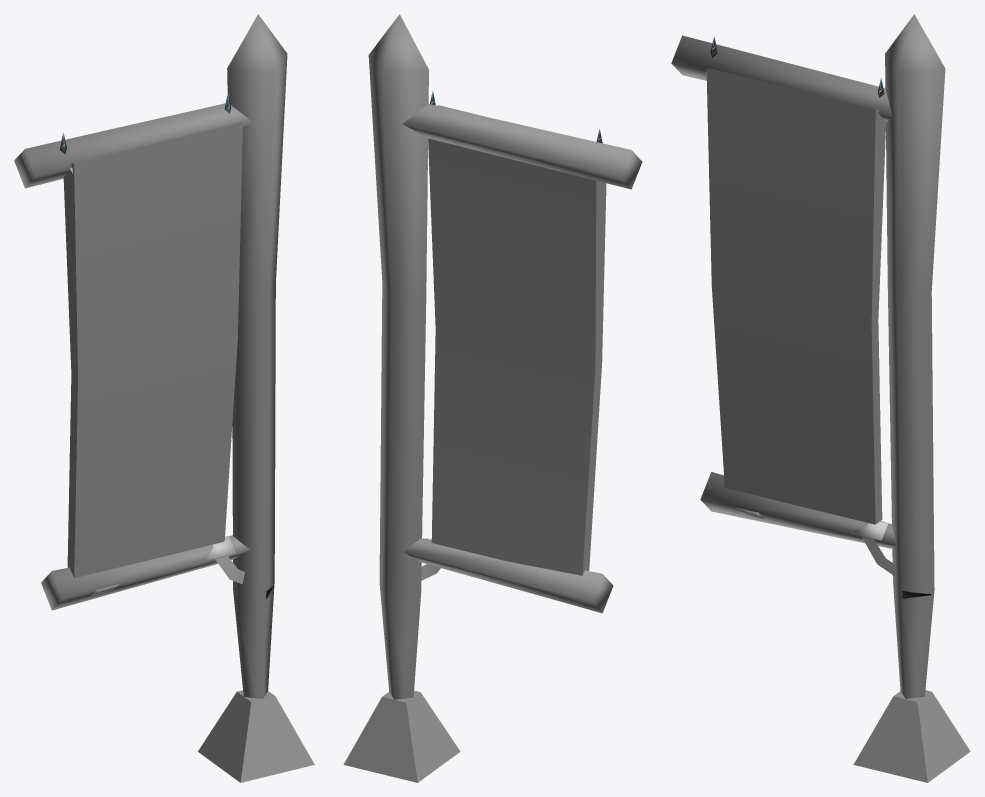
The model's file is fb_jjc_zj_10_b.FBX.
3 renders of one model, left to right at view 1: azimuth 30°, elevation 25°; view 2: azimuth 150°, elevation 25°; view 3: azimuth 330°, elevation 25°, orthographic.
Visible parts, largest first — view 1: col_fb_jjc_zj_10_b, fb_jjc_zj_10_a; view 2: col_fb_jjc_zj_10_b; view 3: col_fb_jjc_zj_10_b, fb_jjc_zj_10_a.
Boxes of the visible parts, bbox=[...] form: col_fb_jjc_zj_10_b: bbox=[14, 14, 314, 782]; fb_jjc_zj_10_a: bbox=[70, 162, 244, 595]; col_fb_jjc_zj_10_b: bbox=[343, 14, 642, 782]; col_fb_jjc_zj_10_b: bbox=[671, 14, 970, 782]; fb_jjc_zj_10_a: bbox=[706, 69, 895, 576].
Size of the model in its own units: 570 by 1513 by 158.
